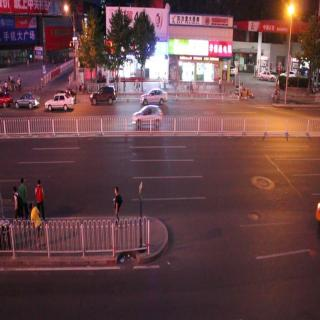Car: (129, 103, 166, 133), (84, 83, 123, 108), (137, 85, 173, 108), (43, 88, 71, 115), (12, 89, 41, 112)
